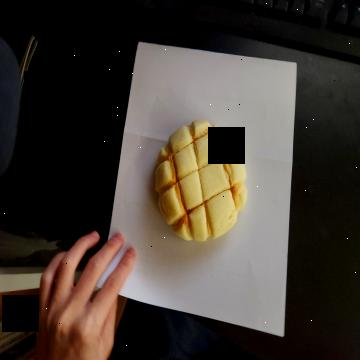melon_bread: (155, 120, 246, 244)
